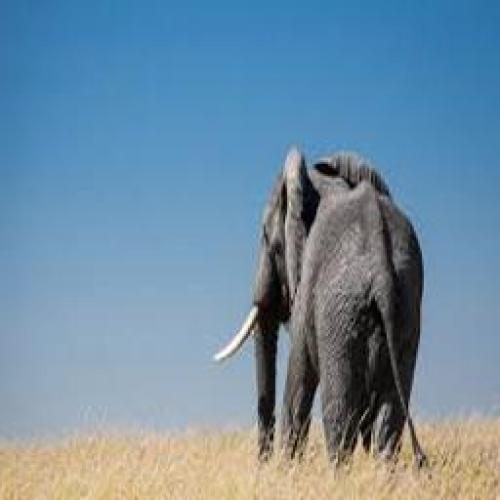african_elephant-endangered: (238, 152, 423, 461)
